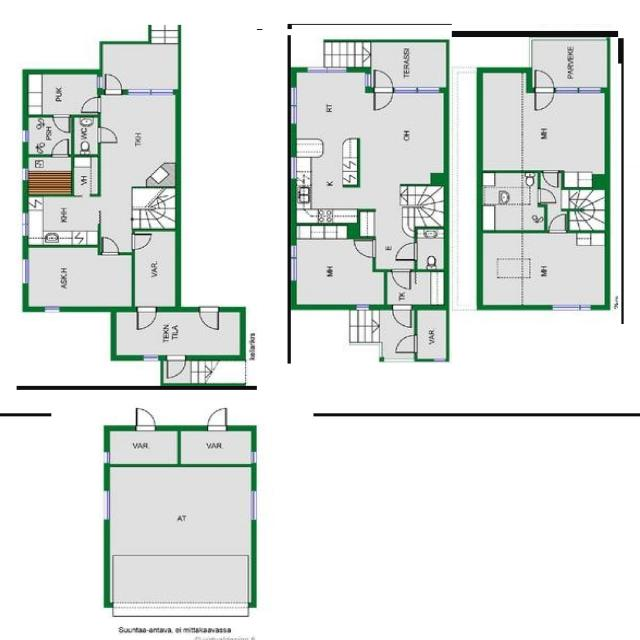door: (136, 408, 156, 432), (137, 307, 157, 330), (535, 69, 554, 93), (199, 307, 218, 330), (535, 88, 554, 111), (208, 408, 226, 432), (374, 70, 392, 93), (374, 87, 392, 110), (393, 305, 411, 327), (354, 240, 376, 258), (168, 356, 185, 378), (392, 269, 410, 289), (105, 74, 122, 95), (396, 336, 417, 353), (396, 244, 417, 260), (52, 138, 69, 157), (132, 234, 152, 250), (102, 237, 119, 255), (53, 114, 69, 133), (549, 215, 565, 233), (97, 128, 117, 142), (81, 98, 101, 112), (543, 170, 558, 187), (538, 189, 556, 203)
